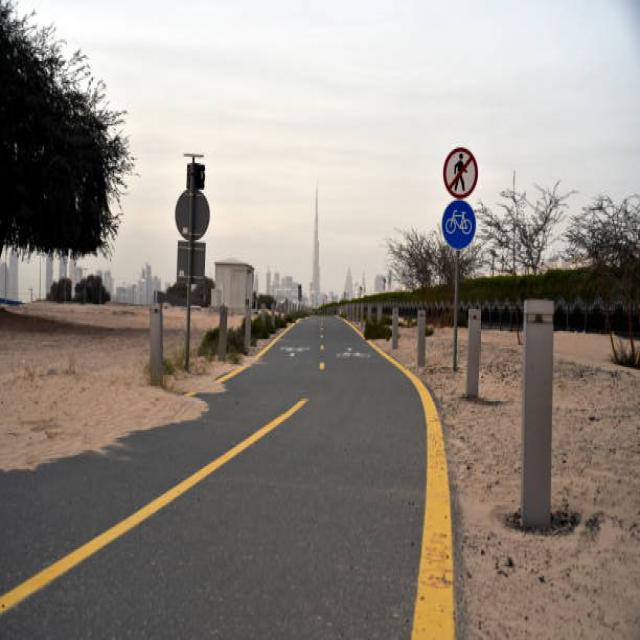bicycle: (438, 196, 478, 251)
